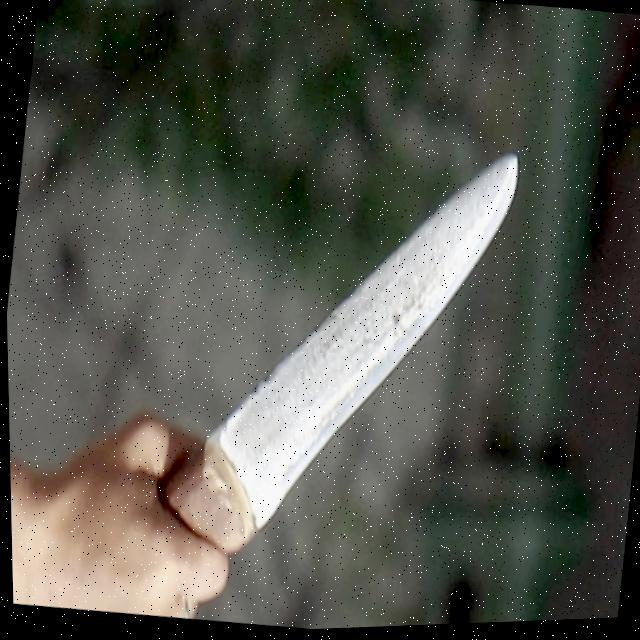knife: (169, 116, 524, 575)
